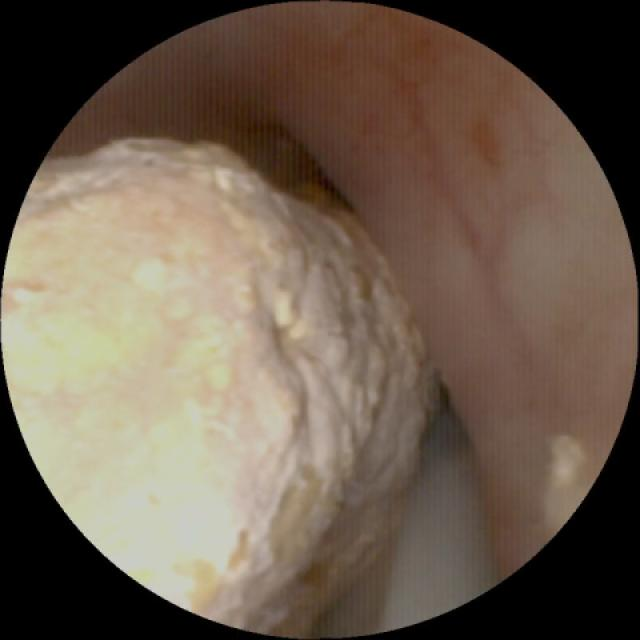stone: (10, 139, 437, 632)
